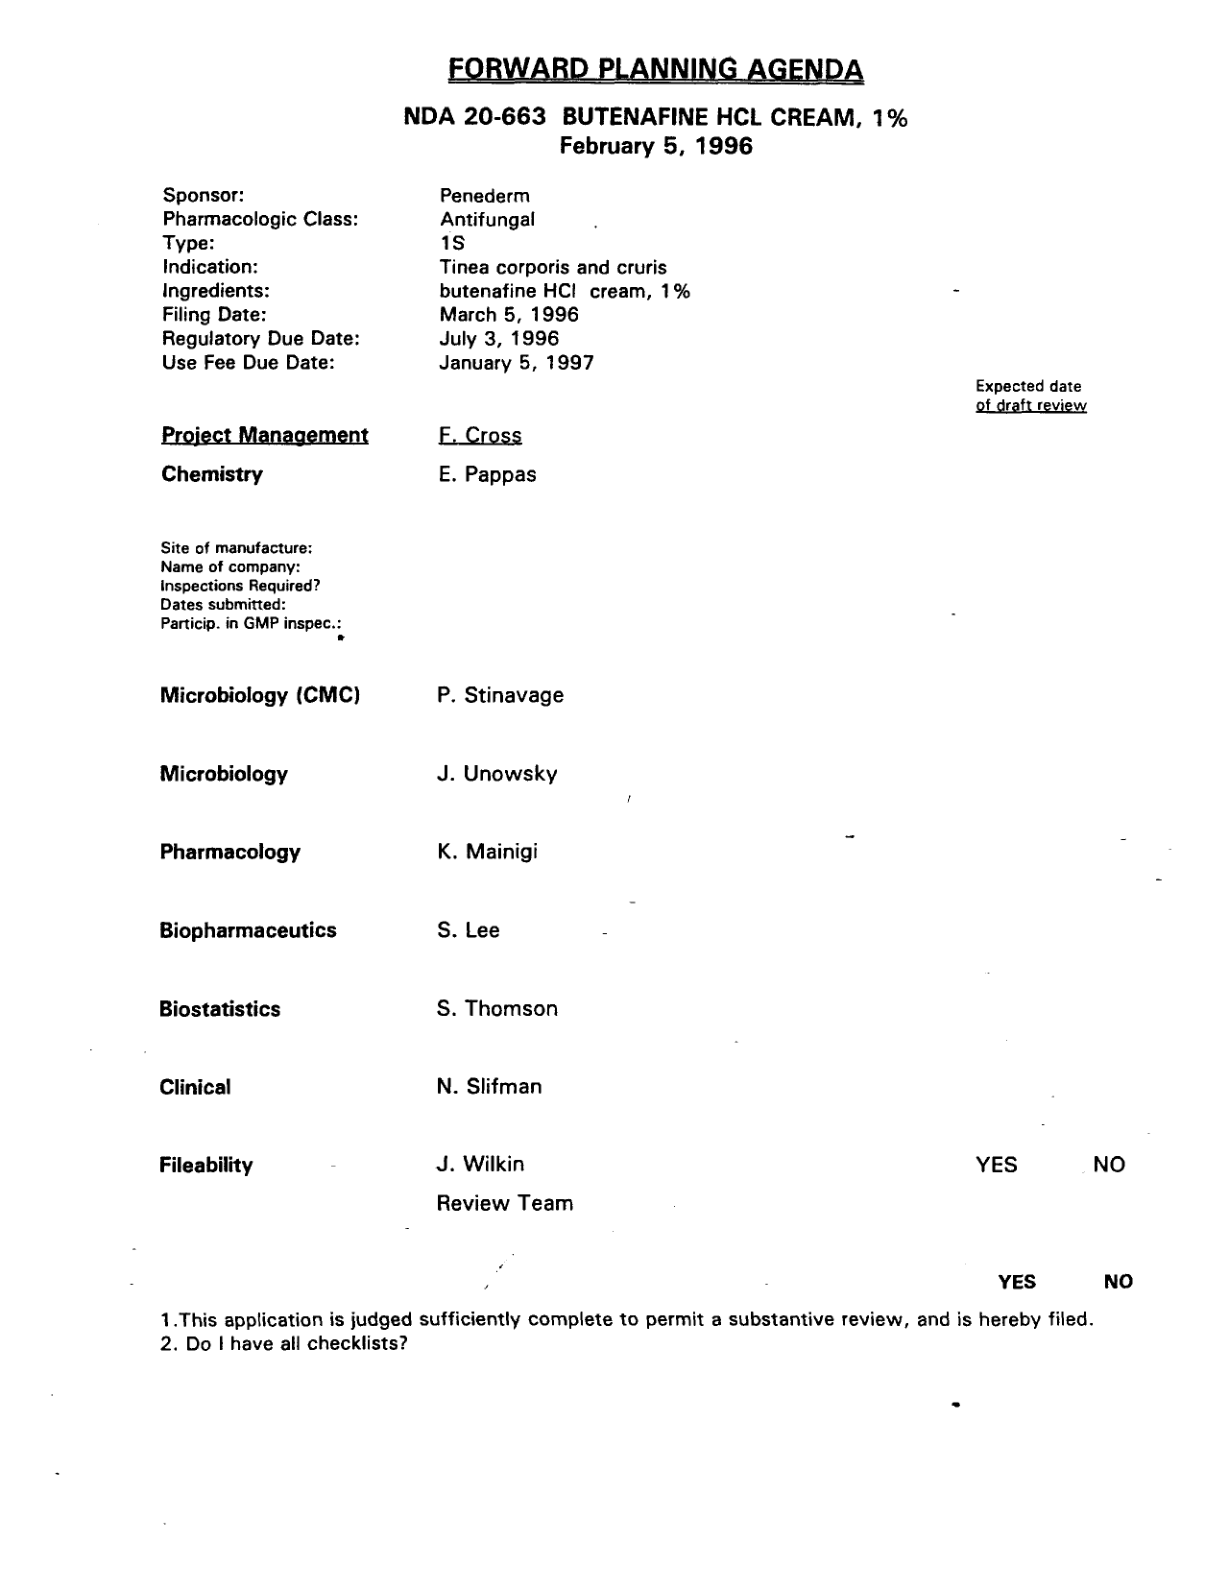nolines: (155, 425, 574, 1217), (158, 183, 692, 373)
